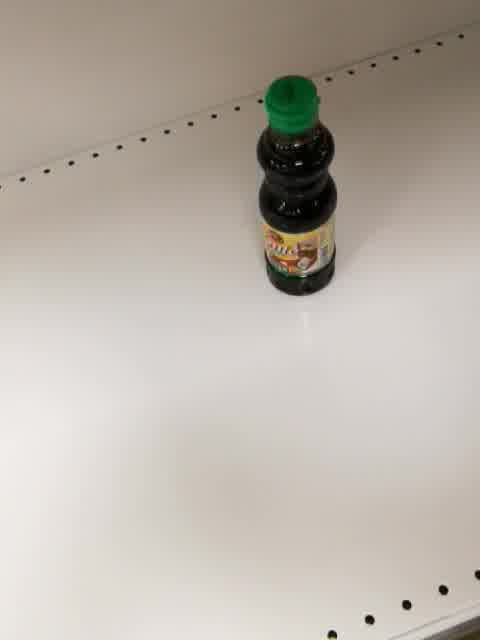cookingoil: (255, 74, 341, 299)
